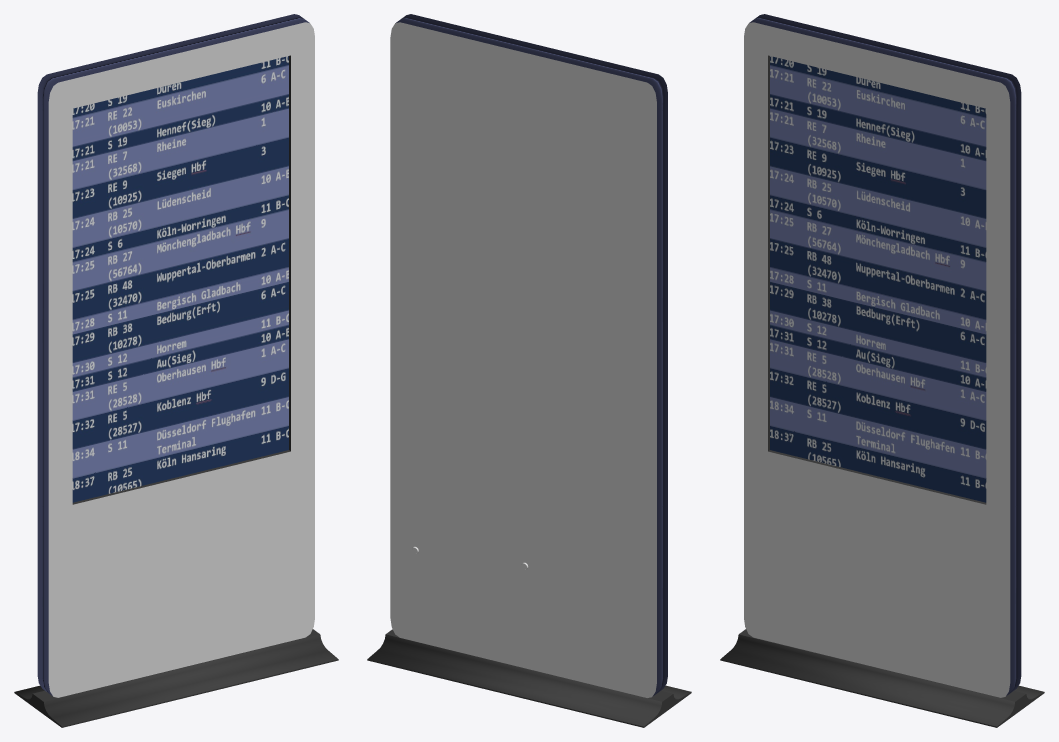
Rendered from Kiosk_Fahrplan.fbx.
The picture shows the model from 3 angles, left to right: view 1: azimuth 30°, elevation 25°; view 2: azimuth 150°, elevation 25°; view 3: azimuth 330°, elevation 25°; orthographic projection.
Parts seen in each view (by area): view 1: Cube.000, Fläche, Cube.001; view 2: Cube.000, Cube.001; view 3: Cube.000, Fläche, Cube.001.
Part boxes in pixels (left/top/right/bottom): Cube.000: left=37, top=14, right=314, bottom=697; Fläche: left=72, top=56, right=288, bottom=502; Cube.001: left=14, top=629, right=338, bottom=727; Cube.000: left=390, top=14, right=667, bottom=697; Cube.001: left=367, top=629, right=691, bottom=727; Cube.000: left=744, top=14, right=1021, bottom=697; Fläche: left=770, top=56, right=986, bottom=502; Cube.001: left=720, top=629, right=1044, bottom=727.
Size of the model in its own units: 28.96 by 62.86 by 8.64.
